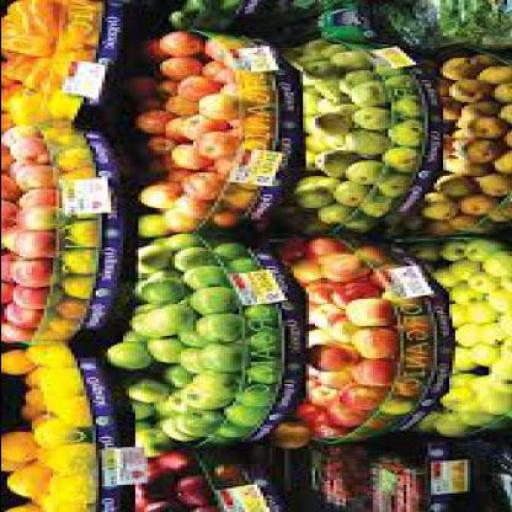biodegradable: (1, 0, 58, 54), (436, 0, 497, 47), (311, 446, 362, 502), (1, 460, 52, 496), (384, 466, 421, 510), (302, 339, 356, 369), (6, 256, 58, 287), (2, 85, 40, 127), (3, 229, 61, 256), (195, 340, 247, 370), (192, 312, 244, 342), (195, 90, 247, 120), (317, 250, 369, 280), (176, 169, 226, 200), (140, 302, 192, 331), (0, 49, 42, 84), (348, 326, 393, 358), (6, 162, 60, 188), (134, 179, 180, 209), (311, 148, 360, 176), (0, 430, 37, 467), (9, 203, 61, 229), (328, 278, 378, 305), (98, 342, 149, 368), (339, 298, 390, 324), (119, 372, 164, 401), (6, 283, 58, 308), (43, 394, 83, 426), (171, 472, 211, 504), (0, 136, 49, 162), (180, 0, 229, 26), (338, 157, 387, 183), (256, 420, 305, 446), (323, 400, 372, 426), (344, 358, 393, 384), (28, 416, 73, 444), (189, 370, 234, 398), (432, 56, 482, 81), (338, 126, 384, 153), (137, 276, 183, 302), (460, 112, 506, 138), (424, 409, 470, 435), (457, 401, 503, 427), (122, 304, 159, 336), (472, 383, 509, 415), (21, 343, 70, 367), (180, 114, 229, 138), (174, 75, 219, 101), (131, 242, 171, 271), (192, 130, 234, 157), (445, 280, 478, 314), (454, 138, 504, 160), (156, 29, 198, 55), (171, 408, 213, 434), (186, 285, 228, 311), (165, 142, 207, 168), (132, 108, 174, 134), (40, 442, 76, 472), (149, 450, 198, 472), (381, 118, 418, 147), (2, 300, 40, 328), (142, 336, 180, 364), (304, 300, 342, 328), (34, 367, 73, 394), (152, 54, 194, 79), (335, 66, 375, 92), (159, 414, 198, 440), (311, 109, 350, 135), (170, 194, 216, 216), (460, 238, 506, 260), (329, 178, 366, 205), (46, 473, 80, 502), (213, 81, 262, 101), (226, 107, 265, 132), (348, 104, 387, 129), (238, 355, 274, 382), (436, 382, 472, 409), (298, 89, 320, 133), (58, 246, 95, 272), (469, 171, 509, 195), (451, 323, 491, 347), (305, 416, 350, 437), (478, 247, 509, 277), (170, 345, 202, 374), (12, 186, 54, 208), (168, 246, 210, 268), (430, 172, 472, 194), (336, 384, 378, 406), (174, 388, 222, 407), (445, 213, 490, 233), (344, 82, 381, 106), (347, 242, 384, 266), (299, 58, 339, 80), (387, 314, 427, 336), (64, 218, 95, 246), (240, 328, 272, 355), (159, 208, 198, 230), (290, 184, 329, 206), (421, 192, 454, 218), (287, 256, 320, 282), (384, 374, 423, 396), (132, 489, 174, 509), (137, 427, 168, 454), (235, 382, 268, 407), (34, 493, 82, 510), (48, 295, 82, 319), (134, 213, 168, 237), (460, 270, 494, 294), (216, 184, 253, 206), (158, 94, 195, 116), (378, 146, 415, 168), (326, 50, 363, 72), (384, 94, 421, 116), (478, 285, 509, 311), (475, 296, 506, 322), (454, 193, 496, 212), (446, 79, 488, 98), (357, 191, 390, 215), (220, 403, 259, 423), (448, 156, 487, 176), (302, 135, 326, 167), (204, 241, 242, 261), (301, 238, 341, 257), (302, 380, 336, 402), (390, 343, 424, 365), (152, 391, 183, 415), (311, 202, 350, 221), (311, 370, 350, 389), (0, 124, 37, 144), (274, 241, 311, 261), (378, 392, 415, 412), (162, 7, 195, 29), (137, 34, 162, 63), (451, 343, 476, 372), (202, 205, 234, 227), (432, 238, 464, 260), (286, 46, 323, 65), (381, 290, 418, 309), (2, 347, 28, 374), (372, 175, 408, 194), (283, 398, 314, 420), (472, 64, 509, 82), (43, 123, 76, 143), (183, 265, 216, 285), (402, 239, 432, 261), (302, 278, 329, 302), (42, 316, 80, 333), (298, 40, 344, 54), (118, 73, 150, 93), (338, 212, 375, 229), (457, 99, 494, 116), (52, 145, 85, 164), (290, 214, 323, 233), (314, 83, 347, 102), (140, 134, 171, 154), (433, 95, 457, 120), (326, 318, 353, 340), (414, 218, 451, 234), (445, 258, 476, 277), (442, 370, 472, 389), (162, 232, 195, 249), (488, 148, 510, 173), (58, 275, 85, 295), (171, 325, 198, 345), (427, 265, 454, 285), (142, 268, 180, 282), (137, 498, 177, 511), (195, 431, 235, 444), (162, 366, 189, 385), (482, 203, 509, 222), (440, 133, 454, 169), (195, 38, 220, 58), (128, 400, 153, 420), (2, 323, 28, 342), (490, 312, 509, 338), (18, 386, 40, 408), (411, 410, 433, 432), (444, 302, 466, 324), (210, 418, 240, 434), (305, 325, 329, 345), (216, 256, 250, 270), (195, 59, 220, 78), (484, 83, 509, 102), (484, 355, 509, 374), (469, 343, 493, 362), (378, 72, 408, 87), (310, 176, 342, 190), (55, 164, 88, 177), (131, 473, 164, 486), (490, 334, 509, 355), (131, 418, 146, 444), (2, 174, 18, 198), (2, 501, 40, 511), (165, 167, 192, 181), (469, 374, 506, 384), (16, 403, 42, 417), (2, 248, 12, 284), (2, 196, 12, 229), (155, 154, 180, 167), (18, 365, 34, 385), (119, 329, 143, 342), (292, 172, 314, 186), (320, 134, 342, 148), (182, 503, 220, 511), (494, 102, 509, 122), (134, 95, 156, 108), (469, 53, 491, 63), (432, 75, 442, 94), (494, 277, 509, 287), (1, 280, 10, 296), (149, 237, 162, 244)
